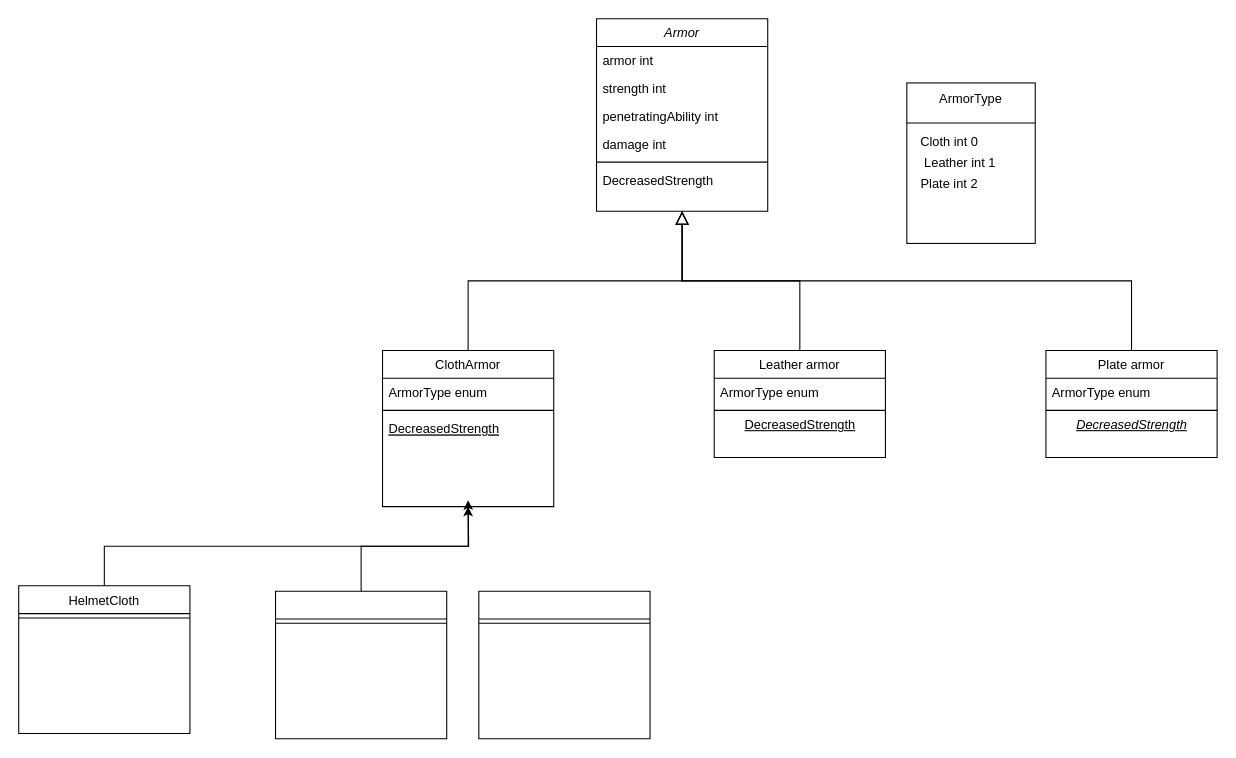
Image size: 1236x758. Some labels were removed from this diagram. Here are the shapes that lost their labels. From the top down, the centre of each, then its label:
At point 360,664: "ChestCloth".
At point 564,664: "PantsCloth".
